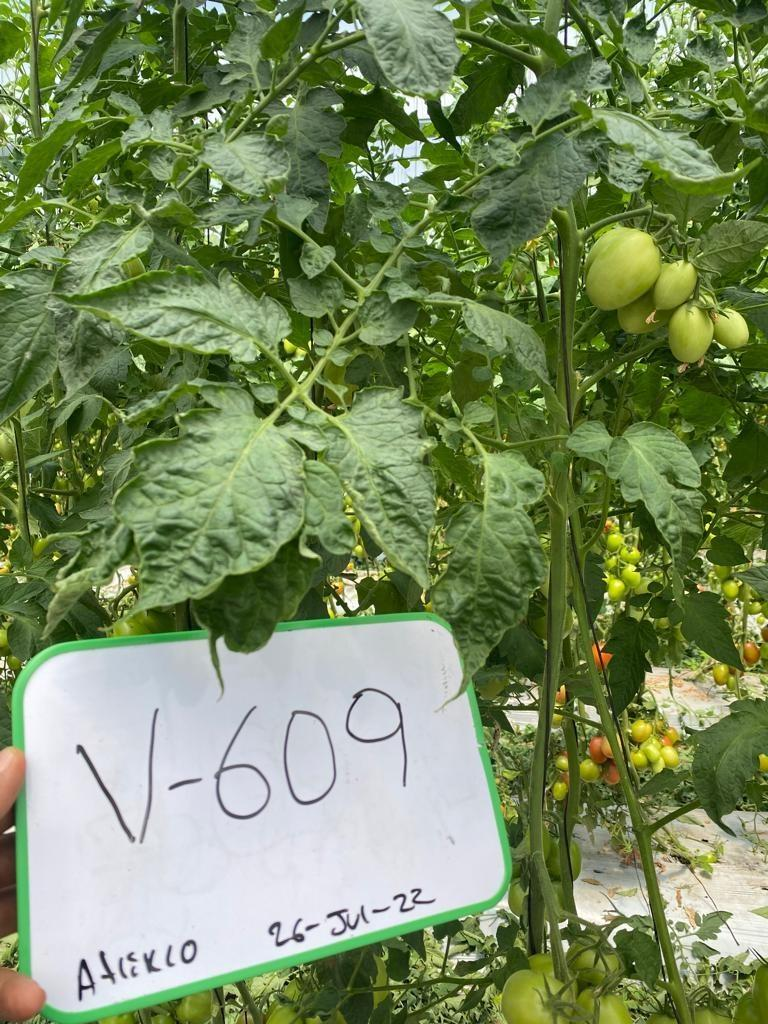Rugose leaf: (116, 390, 302, 608), (326, 388, 434, 586), (70, 268, 290, 362), (568, 422, 704, 564), (472, 132, 592, 262), (424, 294, 548, 381), (1, 268, 58, 420)
